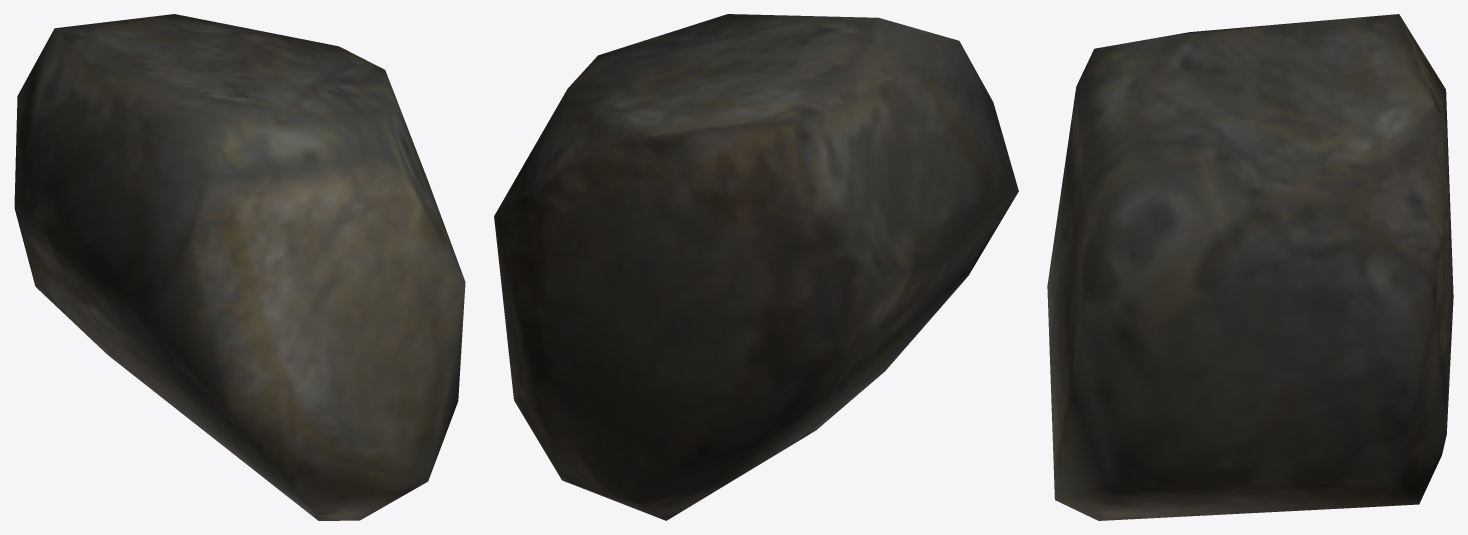
The model's file is rock_detail_02.obj.
The picture shows the model from 3 angles, left to right: view 1: azimuth 30°, elevation 25°; view 2: azimuth 150°, elevation 25°; view 3: azimuth 270°, elevation 25°; orthographic projection. The views are drawn at different scales.
Parts seen in each view (by area): view 1: rock_detail_02; view 2: rock_detail_02; view 3: rock_detail_02.
Part boxes in pixels (x1,y1,x2,y2): rock_detail_02: [14, 14, 465, 520]; rock_detail_02: [494, 14, 1018, 520]; rock_detail_02: [1047, 14, 1453, 520].
Bounding box in the file's own units: 1.24 × 1.5 × 1.29.
1 material, 1 textured.
